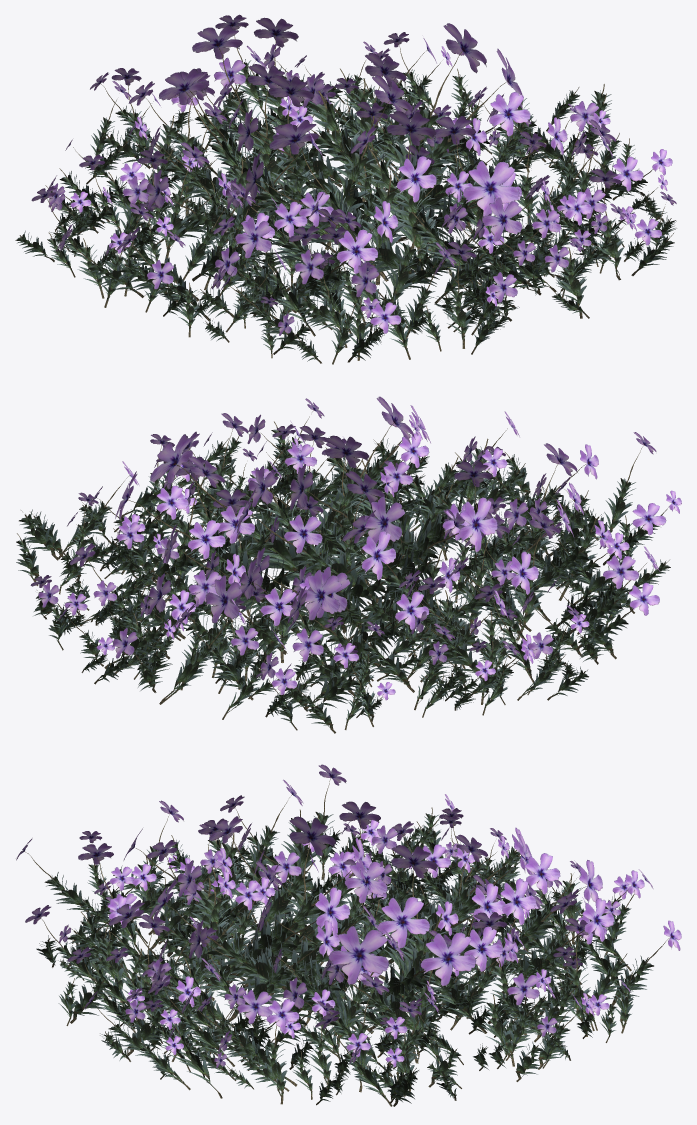
File: BlanketPhlox.glb
The picture shows the model from 3 angles, top to bottom: view 1: azimuth 30°, elevation 25°; view 2: azimuth 150°, elevation 25°; view 3: azimuth 270°, elevation 25°; orthographic projection. The views are drawn at different scales.
Parts seen in each view (by area): view 1: BlanketPhlox; view 2: BlanketPhlox; view 3: BlanketPhlox.
Boxes of the visible parts, box(x1,y1,x2,y2) form: BlanketPhlox: box(15, 14, 676, 364); BlanketPhlox: box(16, 396, 681, 733); BlanketPhlox: box(16, 764, 681, 1106).
Bounding box in the file's own units: 0.6077 × 0.1427 × 0.6137.
Materials: 1 (1 with a texture image).
